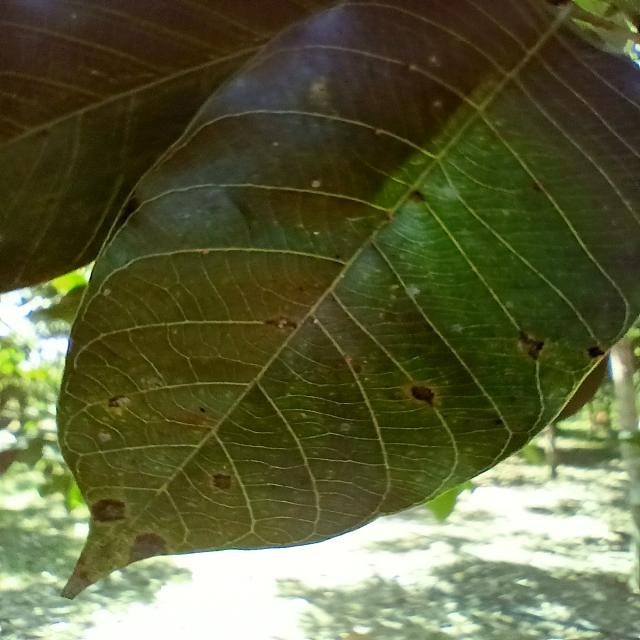Colletotrichum: (588, 346, 604, 358)
